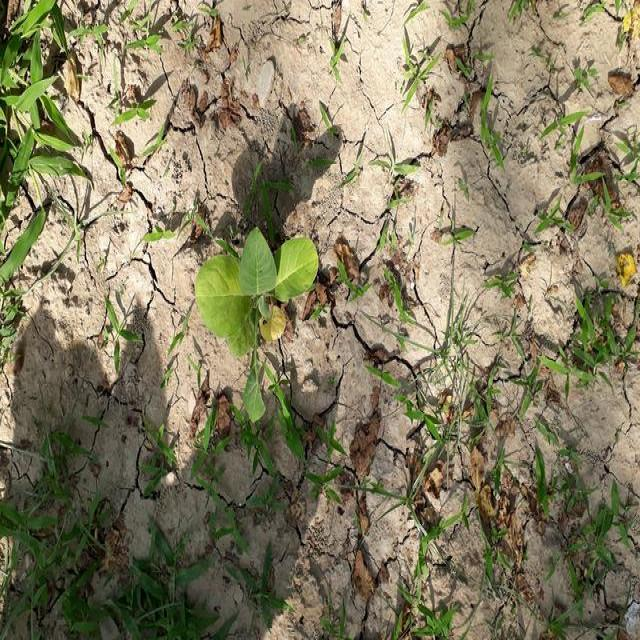crop: (190, 232, 324, 436)
